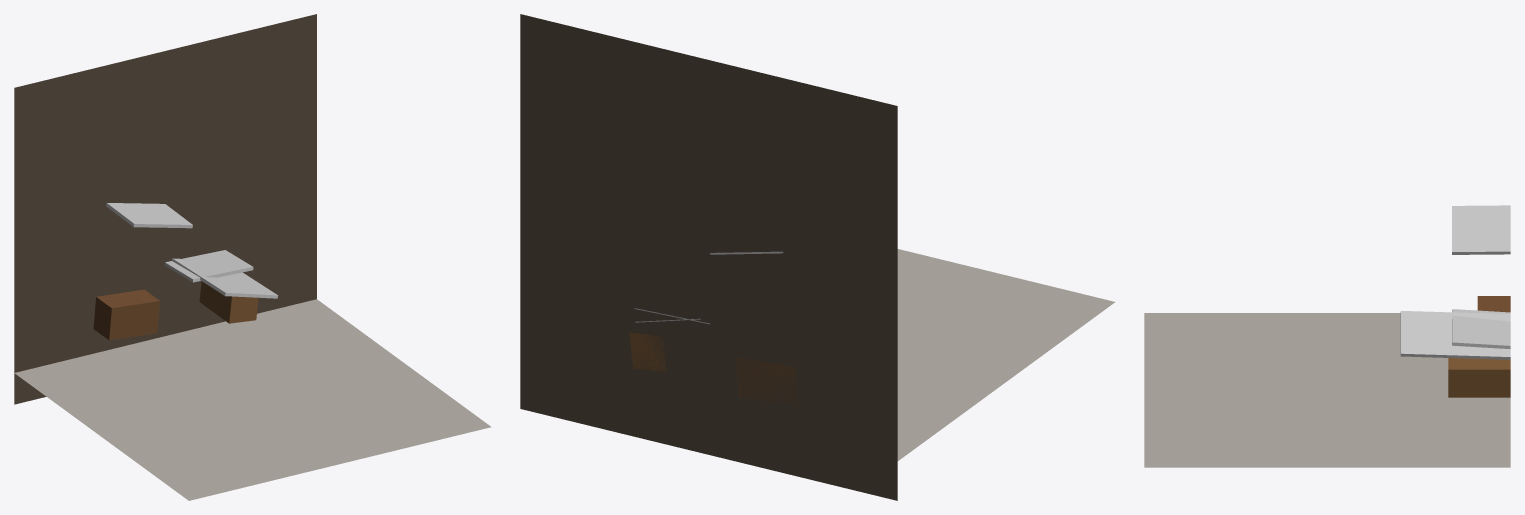
3 renders of one model, left to right at view 1: azimuth 30°, elevation 25°; view 2: azimuth 150°, elevation 25°; view 3: azimuth 270°, elevation 25°, orthographic. The views are drawn at different scales.
Visible parts, largest first — view 1: ground_floor, bg_wall_back, diffuse_table_02, glass_window_01, glass_window_03, diffuse_chair_01, glass_door_02; view 2: ground_floor, bg_wall_back, diffuse_table_02, diffuse_chair_01; view 3: bg_wall_back, glass_door_02, glass_window_01, diffuse_chair_01, glass_window_03, diffuse_table_02.
Boxes of the visible parts, x1,y1,x2,y2 form: ground_floor: [14, 14, 316, 404]; bg_wall_back: [14, 299, 491, 500]; diffuse_table_02: [93, 289, 159, 340]; glass_window_01: [106, 203, 192, 228]; glass_window_03: [165, 250, 253, 282]; diffuse_chair_01: [199, 281, 258, 323]; glass_door_02: [172, 258, 278, 298]; ground_floor: [520, 14, 897, 500]; bg_wall_back: [897, 249, 1114, 460]; diffuse_table_02: [736, 357, 798, 406]; diffuse_chair_01: [629, 332, 666, 372]; bg_wall_back: [1144, 313, 1510, 467]; glass_door_02: [1400, 311, 1510, 359]; glass_window_01: [1452, 205, 1510, 254]; diffuse_chair_01: [1448, 358, 1510, 397]; glass_window_03: [1452, 309, 1510, 348]; diffuse_table_02: [1477, 296, 1510, 312].
Bounding box in the file's own units: 0.5 × 0.5 × 0.5001.
